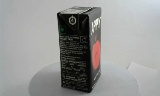appy: (52, 6, 98, 93)
